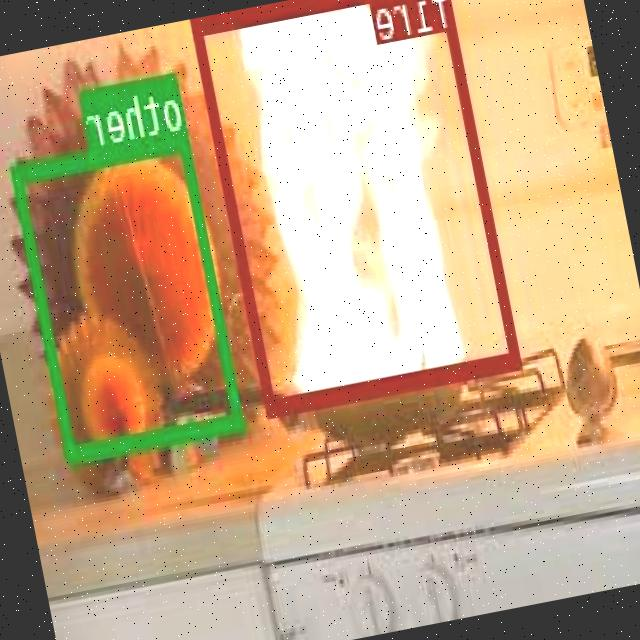fire: (193, 0, 523, 411)
